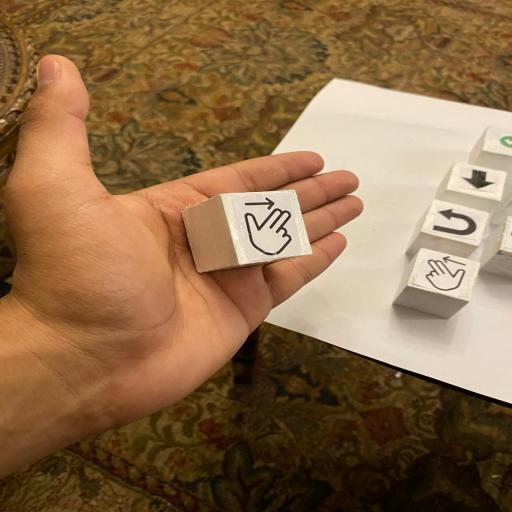Down: (446, 162, 507, 202)
LeftSwipe: (392, 247, 479, 318)
RightSwipe: (182, 188, 313, 274)
Undo: (419, 199, 491, 247)
